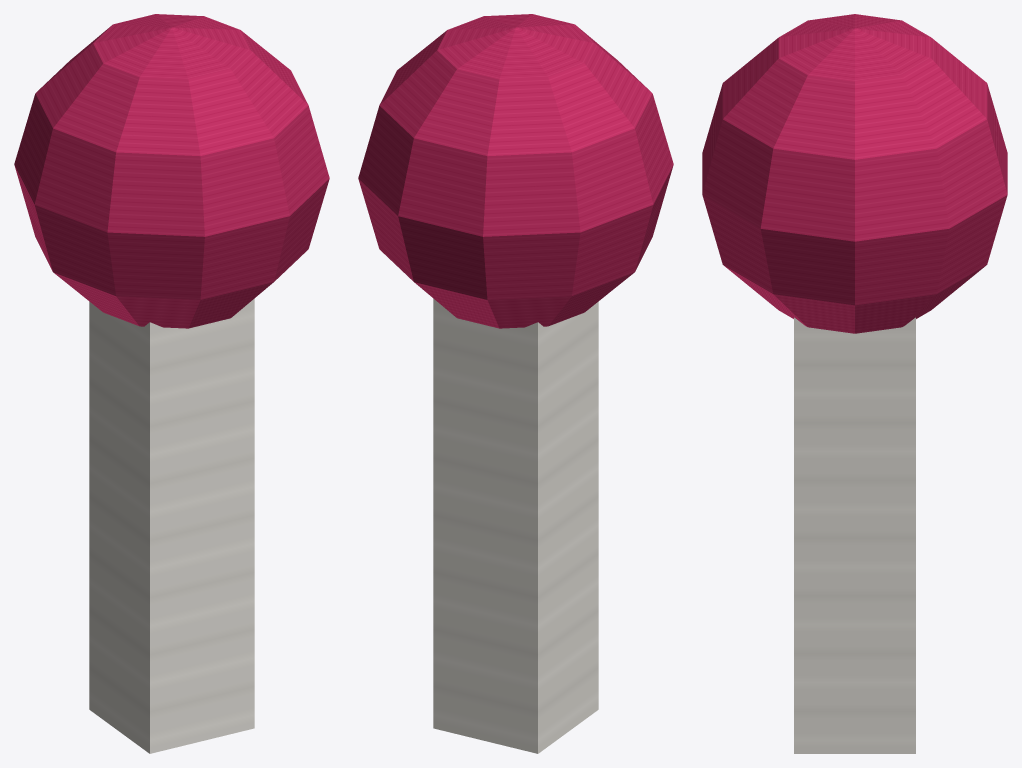
File: catrina_brazo_der.obj
3 renders of one model, left to right at view 1: azimuth 30°, elevation 25°; view 2: azimuth 150°, elevation 25°; view 3: azimuth 270°, elevation 25°, orthographic.
Parts seen in each view (by area): view 1: catrina_brazo_der; view 2: catrina_brazo_der; view 3: catrina_brazo_der.
Part boxes in pixels (x1,y1,x2,y2): catrina_brazo_der: [14, 14, 329, 753]; catrina_brazo_der: [358, 14, 673, 753]; catrina_brazo_der: [702, 14, 1007, 753].
Bounding box in the file's own units: 0.084 × 0.202 × 0.0799.
1 material, 1 textured.
